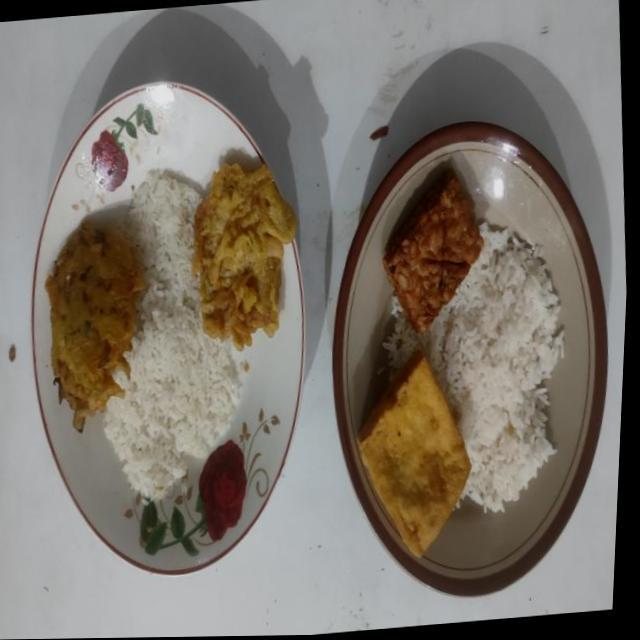nasi_putih: (382, 221, 564, 512), (103, 169, 242, 499)
tahu_goreng: (356, 350, 471, 556)
tempe_goreng: (382, 170, 483, 331)
